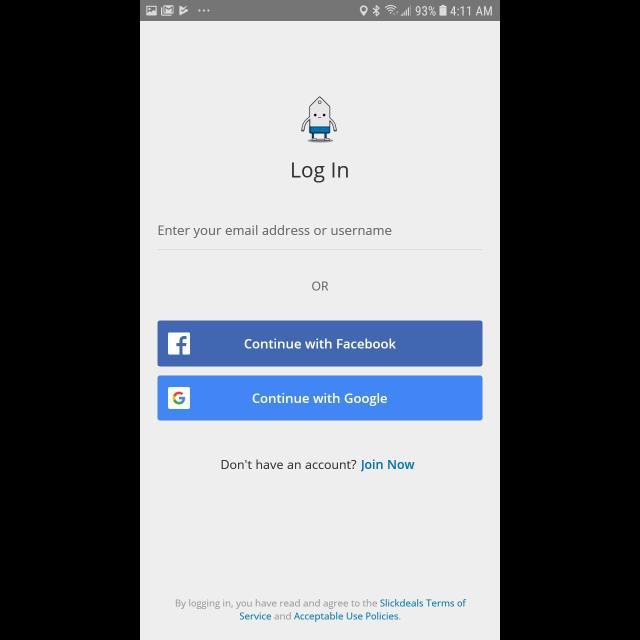image: (301, 97, 337, 143)
input: (158, 225, 482, 251)
text: (176, 598, 467, 622), (160, 225, 392, 239), (222, 459, 356, 469), (292, 162, 348, 184), (361, 460, 415, 472), (312, 281, 330, 291)
textbutton: (158, 321, 482, 367), (158, 376, 482, 420)
uppertaskbar: (140, 1, 500, 22)
